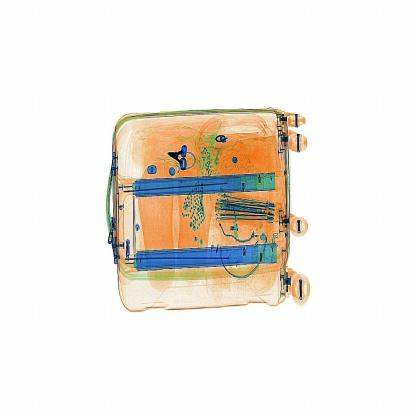gun: (167, 139, 203, 181)
